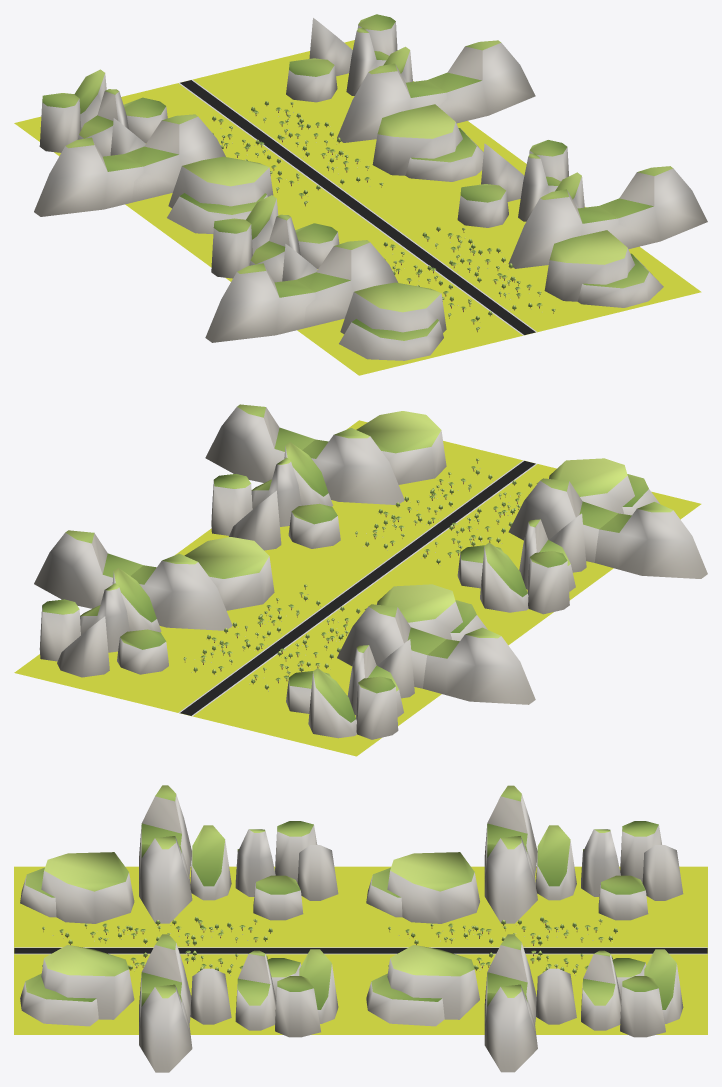
Rendered from Road.gltf.
3 renders of one model, top to bottom at view 1: azimuth 30°, elevation 25°; view 2: azimuth 150°, elevation 25°; view 3: azimuth 270°, elevation 25°, orthographic.
Parts seen in each view (by area): view 1: Road-straight; view 2: Road-straight; view 3: Road-straight.
Boxes of the visible parts, x1,y1,x2,y2 form: Road-straight: [14, 14, 707, 375]; Road-straight: [14, 404, 707, 756]; Road-straight: [14, 785, 707, 1072].
Size of the model in its own units: 683 by 77.71 by 823.
Materials: 4 (1 with a texture image).
